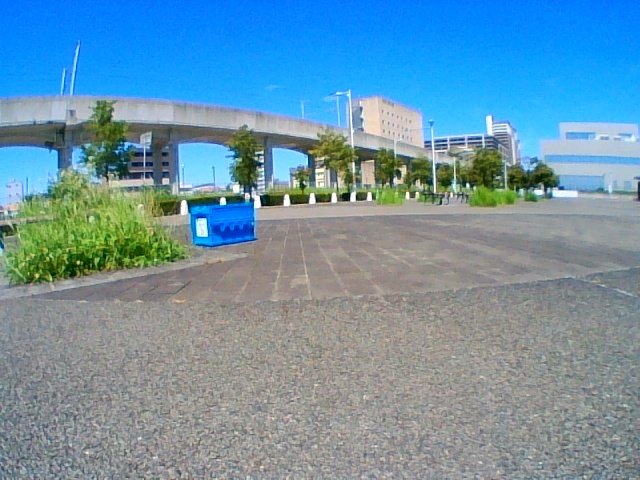blue_box: (192, 205, 256, 245)
tag: (196, 218, 207, 237)
